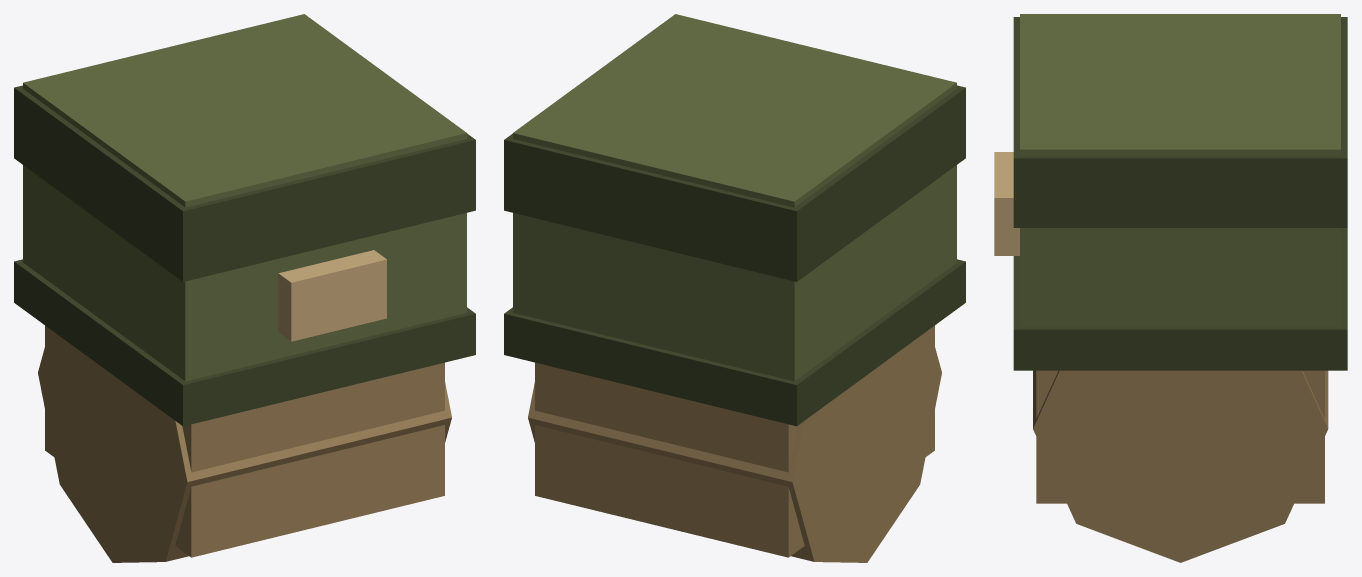
The model's file is pc_k9_upper_arm.fbx.
3 renders of one model, left to right at view 1: azimuth 30°, elevation 25°; view 2: azimuth 150°, elevation 25°; view 3: azimuth 270°, elevation 25°, orthographic.
Visible parts, largest first — view 1: pc_k9_upper_arm; view 2: pc_k9_upper_arm; view 3: pc_k9_upper_arm.
Part boxes in pixels (left/top/right/bottom): pc_k9_upper_arm: left=14, top=14, right=475, bottom=562; pc_k9_upper_arm: left=504, top=14, right=965, bottom=562; pc_k9_upper_arm: left=994, top=14, right=1347, bottom=562.
Bounding box in the file's own units: 104 × 144 × 110.
